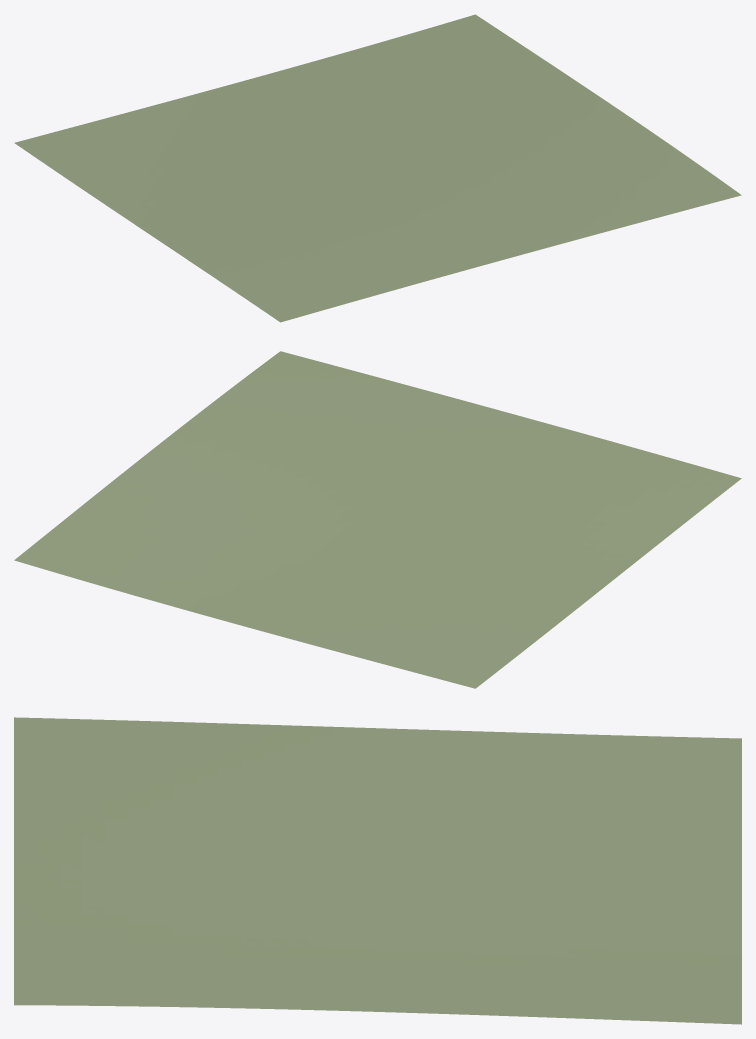
File: expanse-3-27.glb
The picture shows the model from 3 angles, top to bottom: view 1: azimuth 30°, elevation 25°; view 2: azimuth 150°, elevation 25°; view 3: azimuth 270°, elevation 25°; orthographic projection. The views are drawn at different scales.
Parts seen in each view (by area): view 1: expanse-3-27; view 2: expanse-3-27; view 3: expanse-3-27.
Boxes of the visible parts, box(x1,y1,x2,y2) form: expanse-3-27: box(14, 14, 741, 322); expanse-3-27: box(14, 351, 741, 688); expanse-3-27: box(14, 717, 741, 1024).
Bounding box in the file's own units: 256 × 15.89 × 256.
